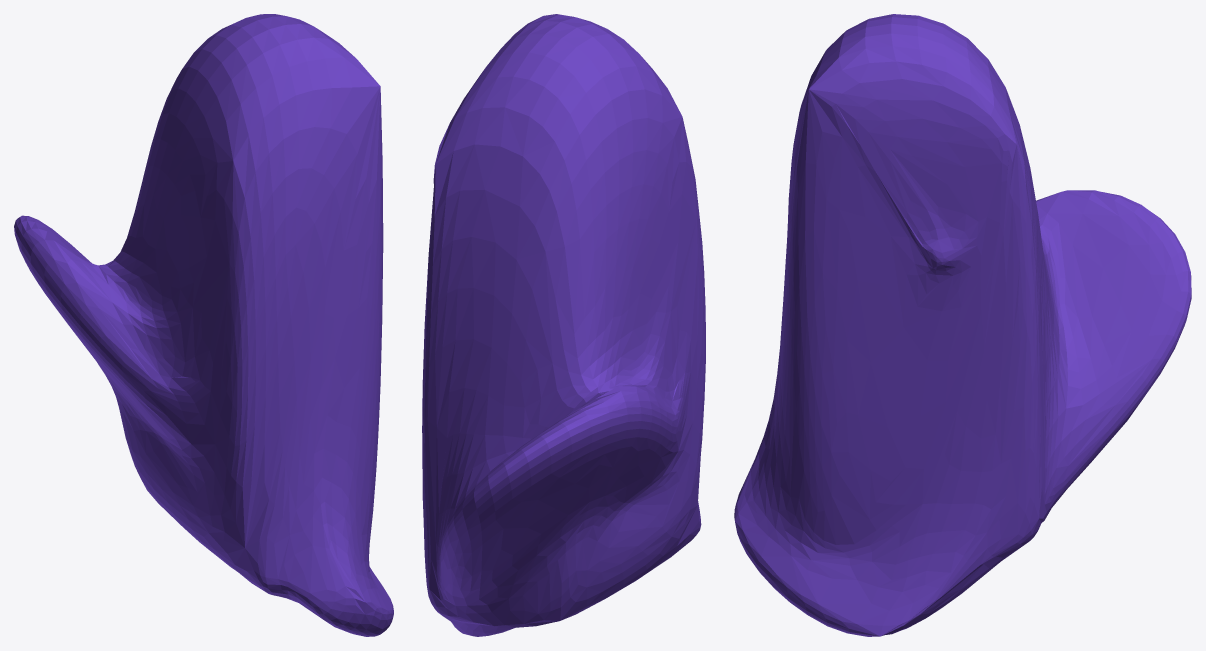
3 renders of one model, left to right at view 1: azimuth 30°, elevation 25°; view 2: azimuth 150°, elevation 25°; view 3: azimuth 270°, elevation 25°, orthographic. The views are drawn at different scales.
Parts seen in each view (by area): view 1: 843_Cube.3403; view 2: 843_Cube.3403; view 3: 843_Cube.3403.
Boxes of the visible parts, x1,y1,x2,y2 form: 843_Cube.3403: [14, 14, 393, 636]; 843_Cube.3403: [422, 14, 705, 636]; 843_Cube.3403: [734, 14, 1191, 636].
Size of the model in its own units: 5.99 by 13.41 by 9.63.
